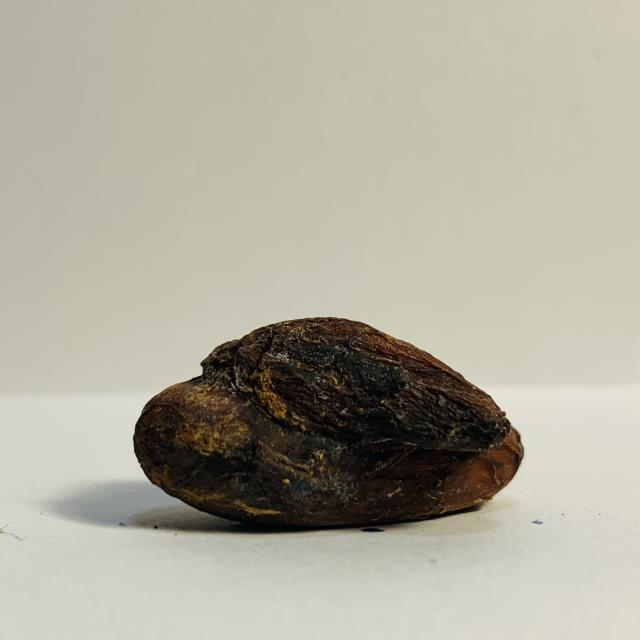Agglomerated_cocoabeans: (37, 286, 549, 557)
